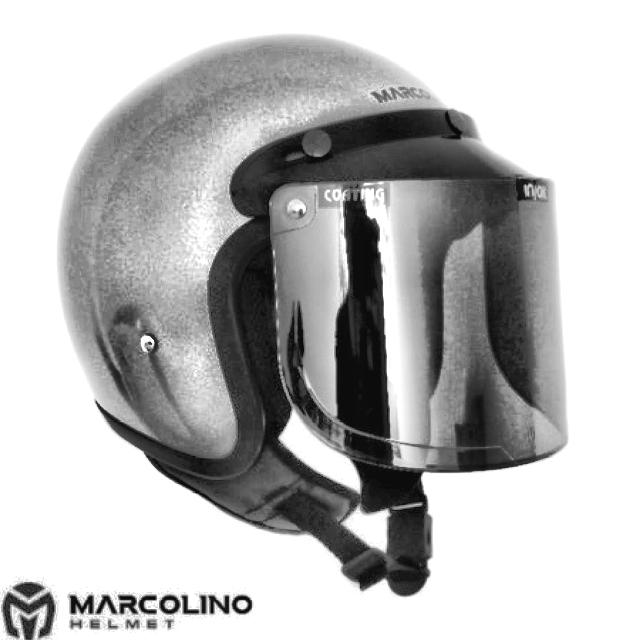Helmet: (48, 32, 579, 604)
